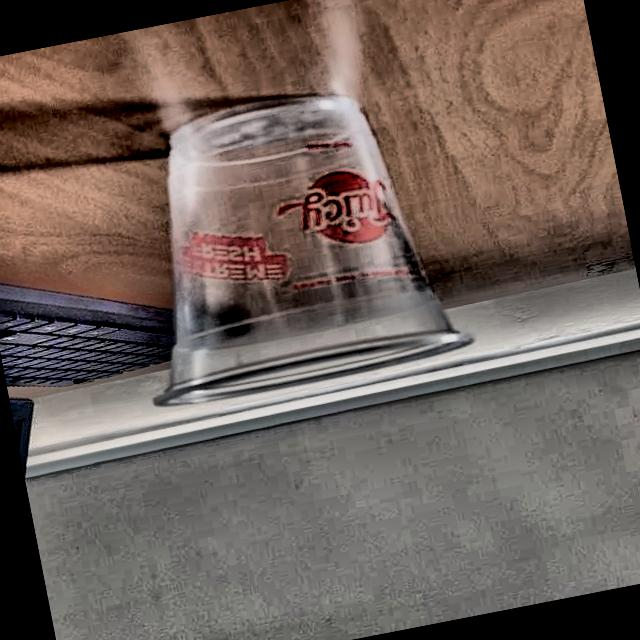plastic cup: (100, 70, 478, 414)
